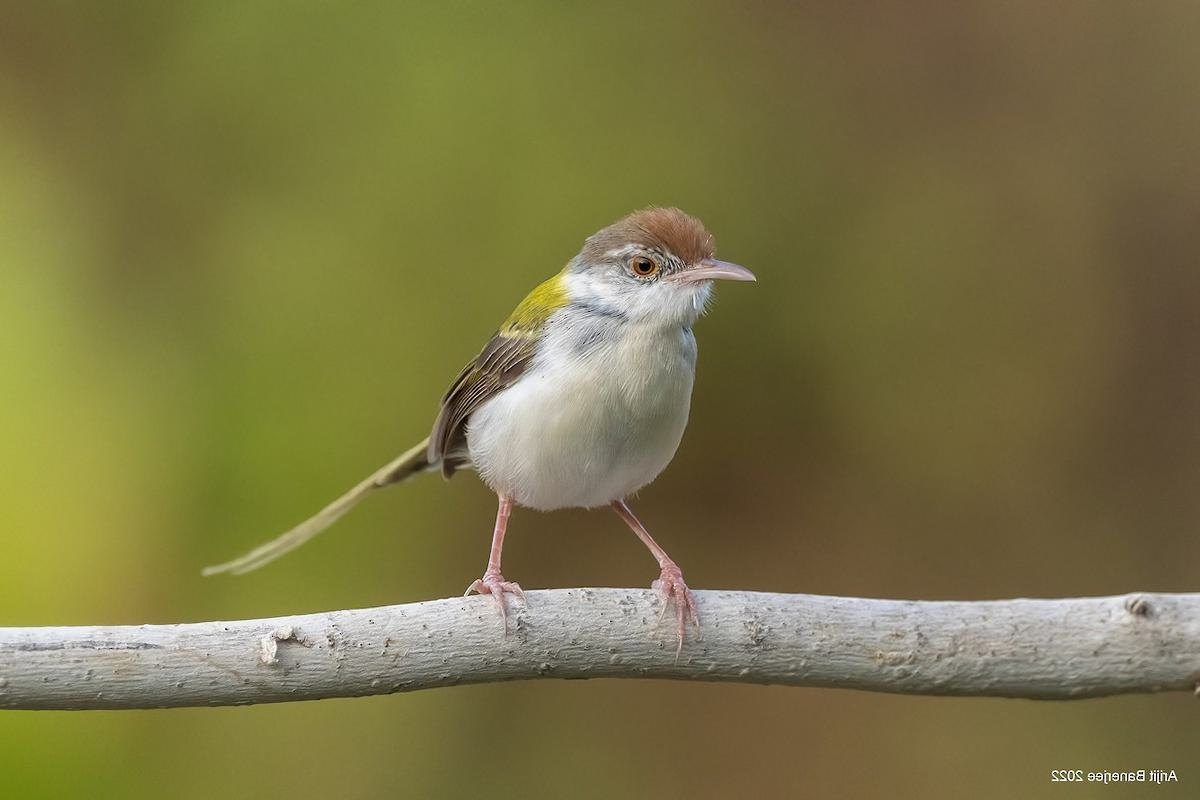tailorbird: (229, 172, 817, 646)
